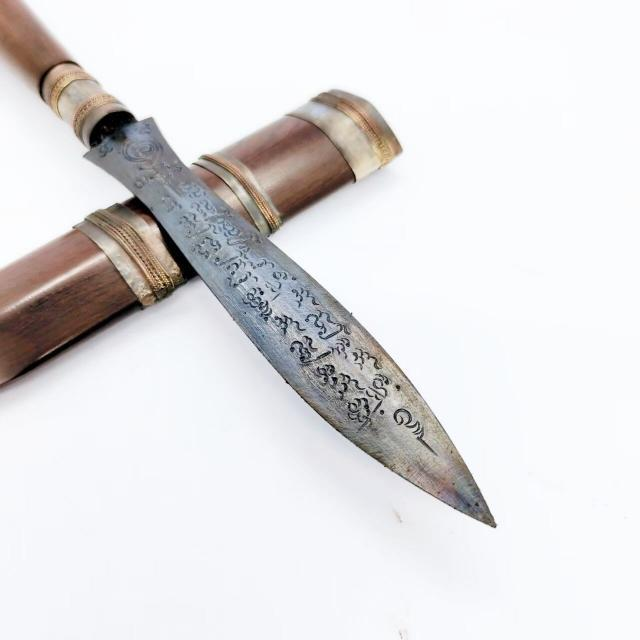short sword: (0, 0, 509, 537)
